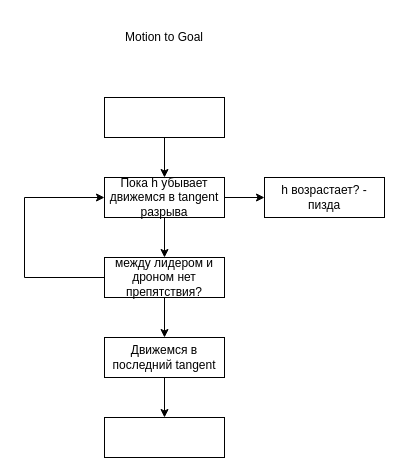
This 402x476 diagram has some shape labels left out. Each missing label, with the centre of its shape:
"приехал в последний tangent? avoidance off" goes at (164,437).
"Увидел obstacle" goes at (164,117).
